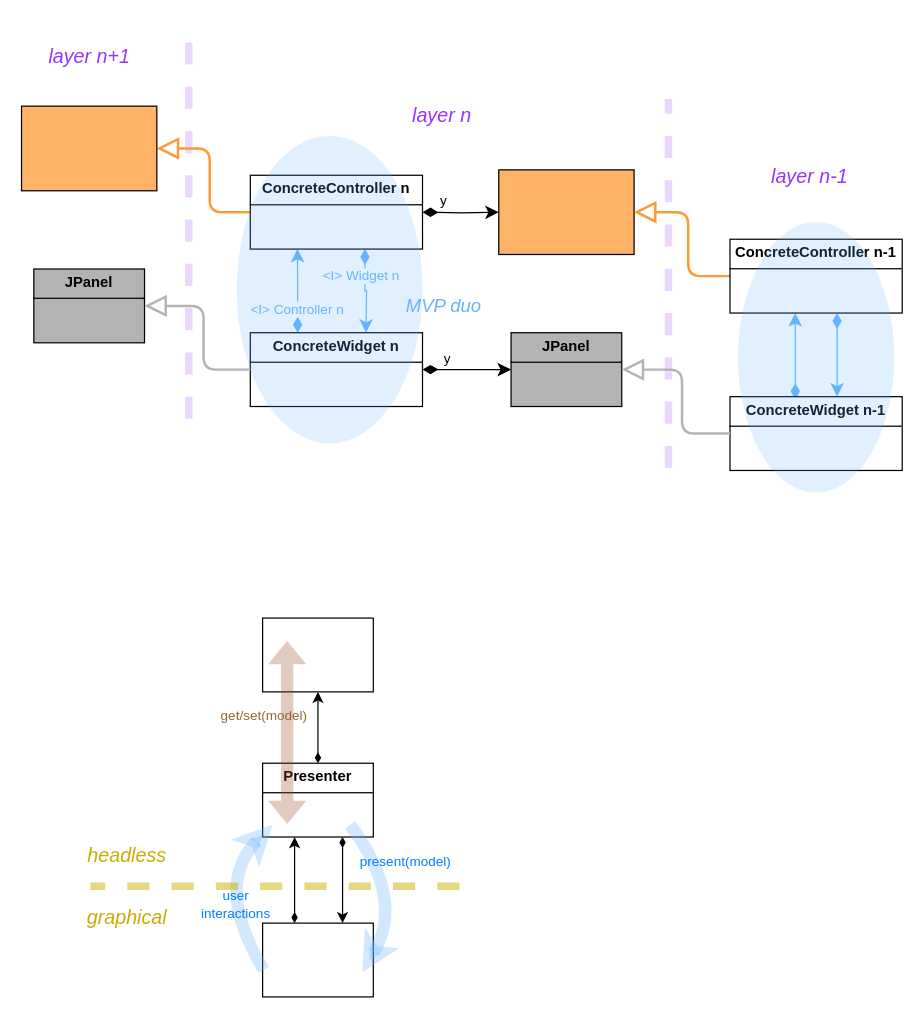
Some shapes in this 924 by 1018 pixel diagram are drawn without their labels. The box of each missing label's shape, as (x1, y1, x2, y2) in pixels:
<<Interface>> Delegate n: (498, 169, 634, 254)
<<Interface>> Delegate n+1: (20, 105, 157, 191)
Service: (261, 617, 373, 692)
View: (261, 922, 373, 997)
